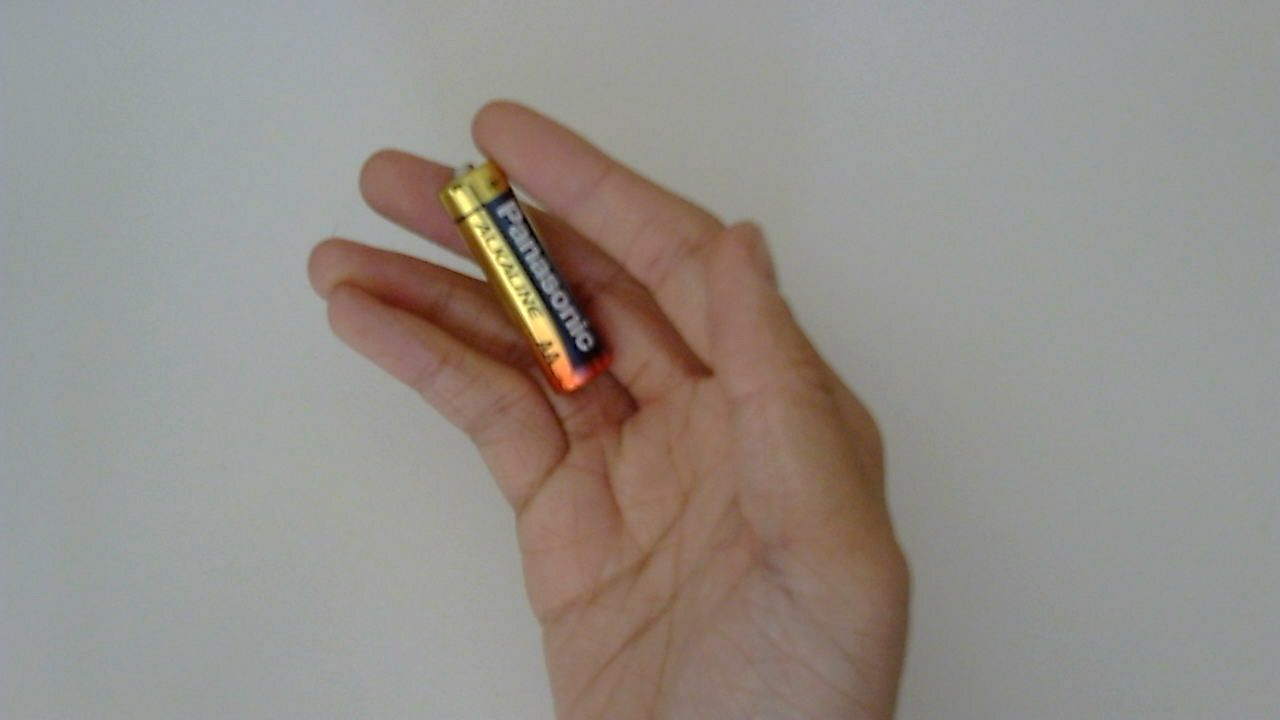Battery: (441, 159, 626, 402)
